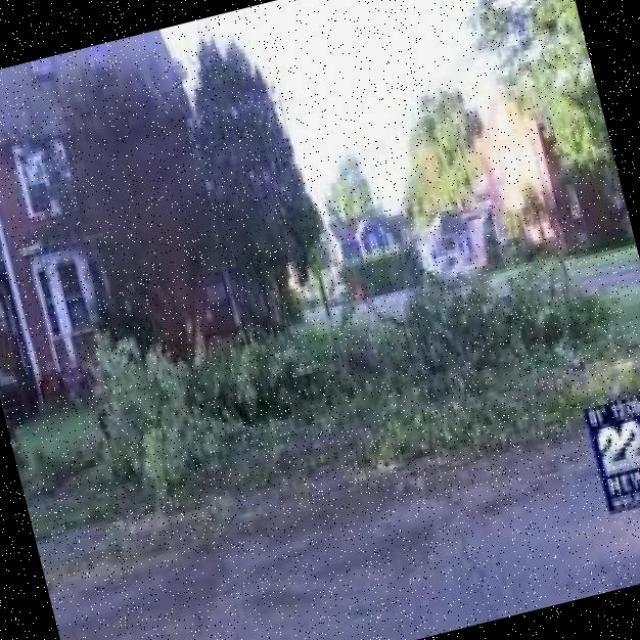fallen_object: (86, 216, 607, 503)
